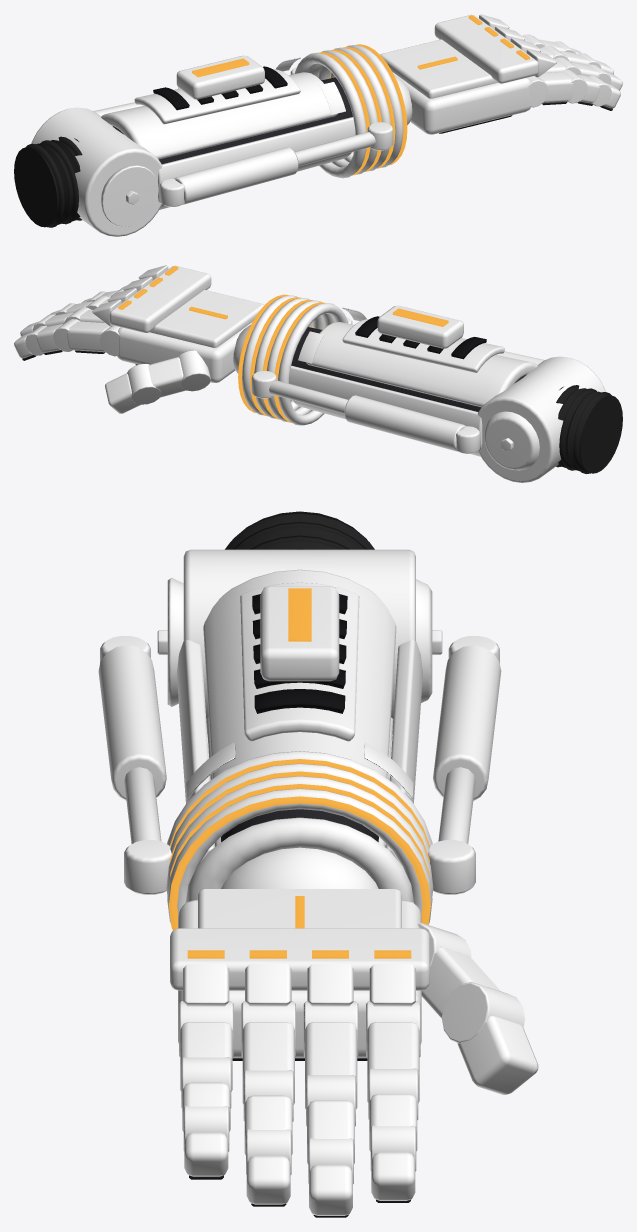
Rendered from arm_power.glb.
The picture shows the model from 3 angles, top to bottom: view 1: azimuth 30°, elevation 25°; view 2: azimuth 150°, elevation 25°; view 3: azimuth 270°, elevation 25°; orthographic projection. The views are drawn at different scales.
Visible parts, largest first — view 1: dorsal, elbow_hinge, bellows, palm, palm_back, plate, side_rail.001, piston_body.001, dorsal_inlay, elbow_cap, cell, coil (+21 smaller); view 2: dorsal, elbow_hinge, bellows, palm_back, side_rail, plate, piston_body, palm, dorsal_inlay, elbow_cap.001, cell, coil (+25 smaller); view 3: dorsal, elbow_hinge, plate, palm_back, wrist_ring, piston_body.001, piston_body, dorsal_inlay, cell, coil.003, wrist_ball, phalanx.013 (+50 smaller).
Part boxes in pixels (x1=…): dorsal: x1=101, y1=72, x2=337, y2=159; elbow_hinge: x1=31, y1=107, x2=162, y2=236; bellows: x1=14, y1=136, x2=82, y2=227; palm: x1=393, y1=72, x2=530, y2=134; palm_back: x1=380, y1=39, x2=497, y2=98; plate: x1=434, y1=14, x2=538, y2=83; side_rail.001: x1=158, y1=117, x2=355, y2=202; piston_body.001: x1=174, y1=147, x2=298, y2=204; dorsal_inlay: x1=134, y1=69, x2=300, y2=124; elbow_cap: x1=101, y1=165, x2=158, y2=226; cell: x1=176, y1=55, x2=264, y2=99; coil: x1=294, y1=52, x2=366, y2=178; dorsal: x1=306, y1=322, x2=537, y2=407; elbow_hinge: x1=477, y1=356, x2=605, y2=482; bellows: x1=556, y1=385, x2=622, y2=473; palm_back: x1=149, y1=290, x2=264, y2=347; side_rail: x1=289, y1=365, x2=482, y2=449; plate: x1=109, y1=265, x2=211, y2=332; piston_body: x1=344, y1=395, x2=465, y2=451; palm: x1=117, y1=322, x2=252, y2=382; dorsal_inlay: x1=342, y1=319, x2=504, y2=372; elbow_cap.001: x1=484, y1=411, x2=539, y2=470; cell: x1=377, y1=305, x2=463, y2=348; coil: x1=278, y1=303, x2=348, y2=425; dorsal: x1=203, y1=569, x2=396, y2=778; elbow_hinge: x1=183, y1=549, x2=415, y2=734; plate: x1=170, y1=928, x2=429, y2=990; palm_back: x1=198, y1=889, x2=401, y2=928; wrist_ring: x1=185, y1=817, x2=413, y2=902; piston_body.001: x1=98, y1=645, x2=166, y2=800; piston_body: x1=433, y1=645, x2=501, y2=800; dorsal_inlay: x1=240, y1=582, x2=359, y2=741; cell: x1=260, y1=586, x2=339, y2=681; coil.003: x1=167, y1=788, x2=432, y2=923; wrist_ball: x1=221, y1=847, x2=378, y2=888; phalanx.013: x1=457, y1=1015, x2=538, y2=1094.
Size of the model in its own units: 0.5666 by 0.1234 by 0.1895.
